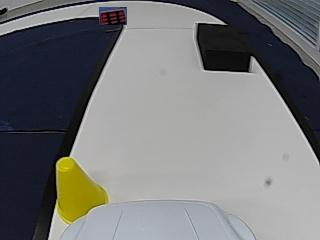block: (195, 22, 251, 70)
cone: (56, 157, 107, 203)
